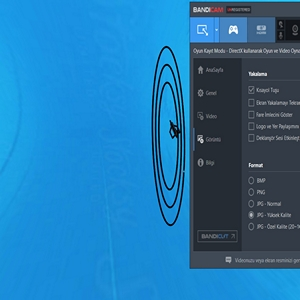circle: (146, 44, 188, 238)
submarine: (166, 119, 185, 138)
